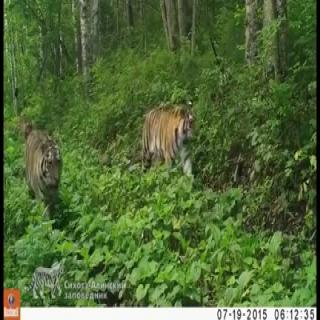Tiger: (138, 97, 195, 179), (22, 120, 63, 207)
